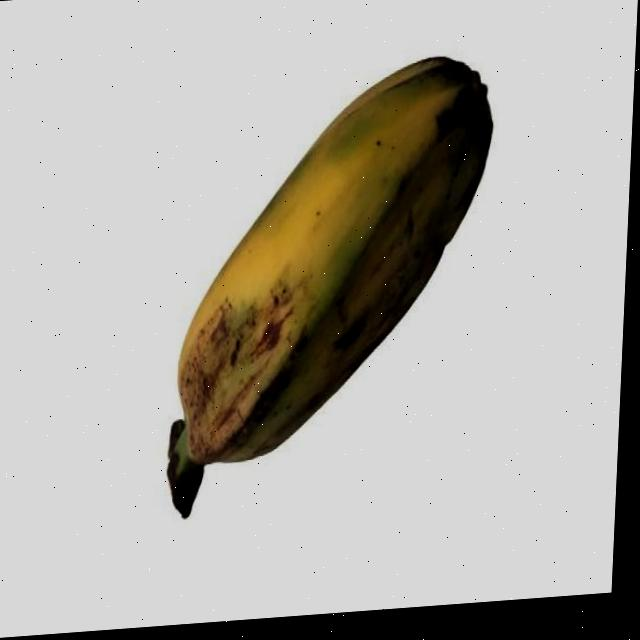banana: (159, 46, 496, 524)
